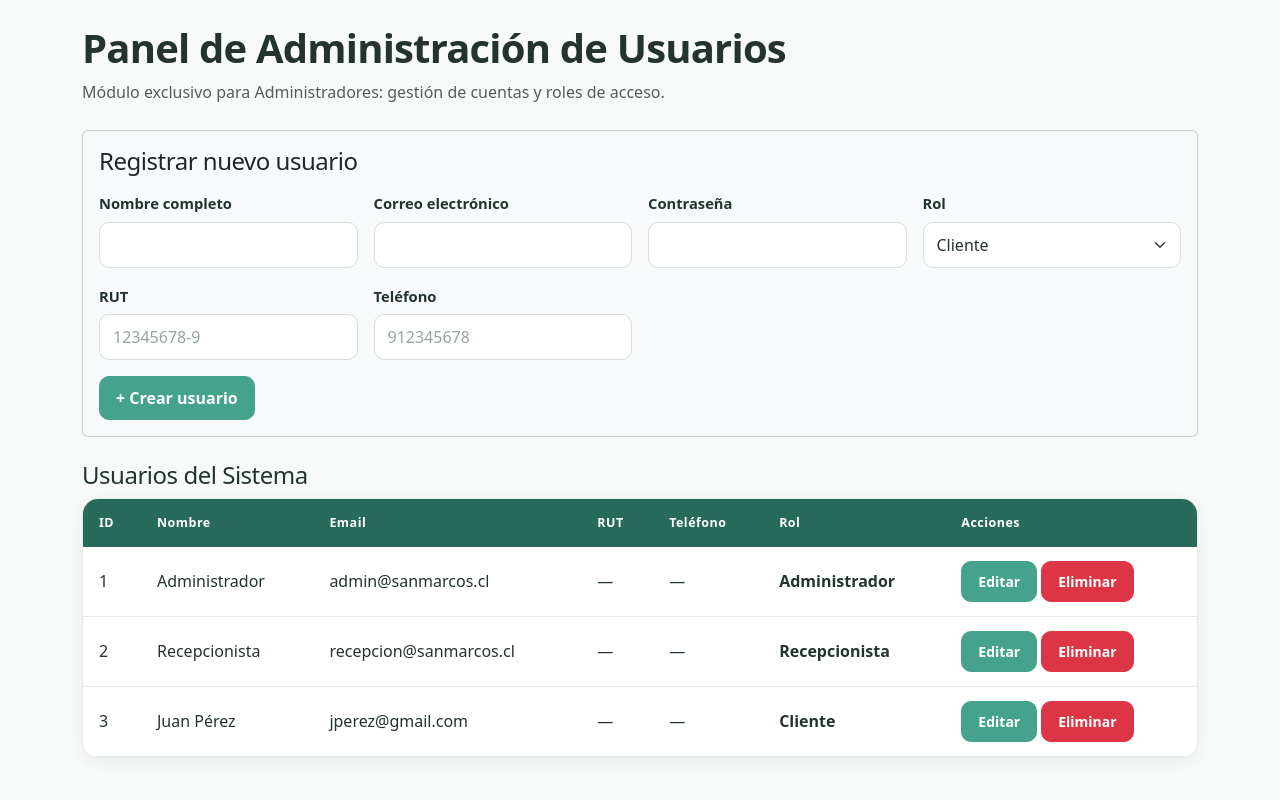
Test: UsuariosPage › rechaza un correo con formato inválido
Expected: the text "Juan Pérez" is shown, 141,687 -> 313,757
Type "Laura Soto" into the field labelled "Nombre completo" at (228, 245), box 99,222 -> 358,268
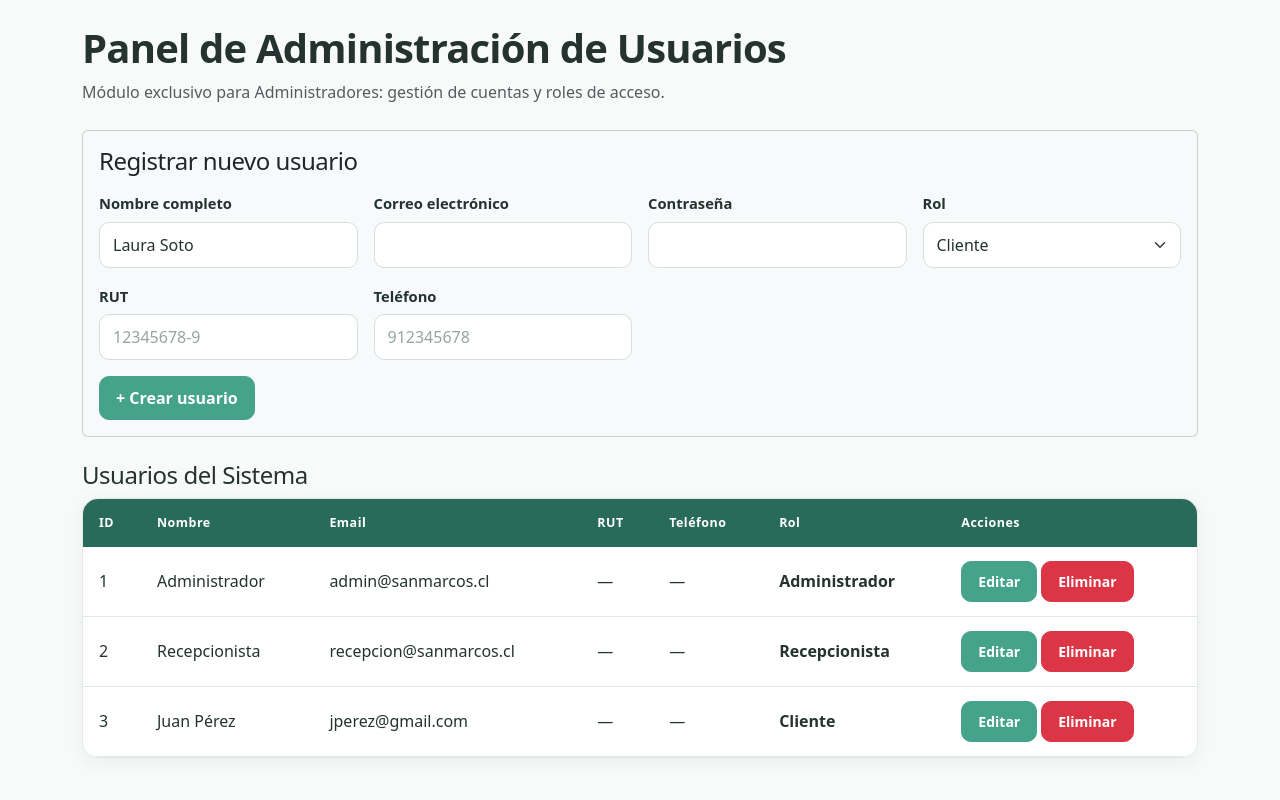
Type "laura-sin-arroba" into the field labelled "Correo electrónico" at (503, 245), box 374,222 -> 632,268
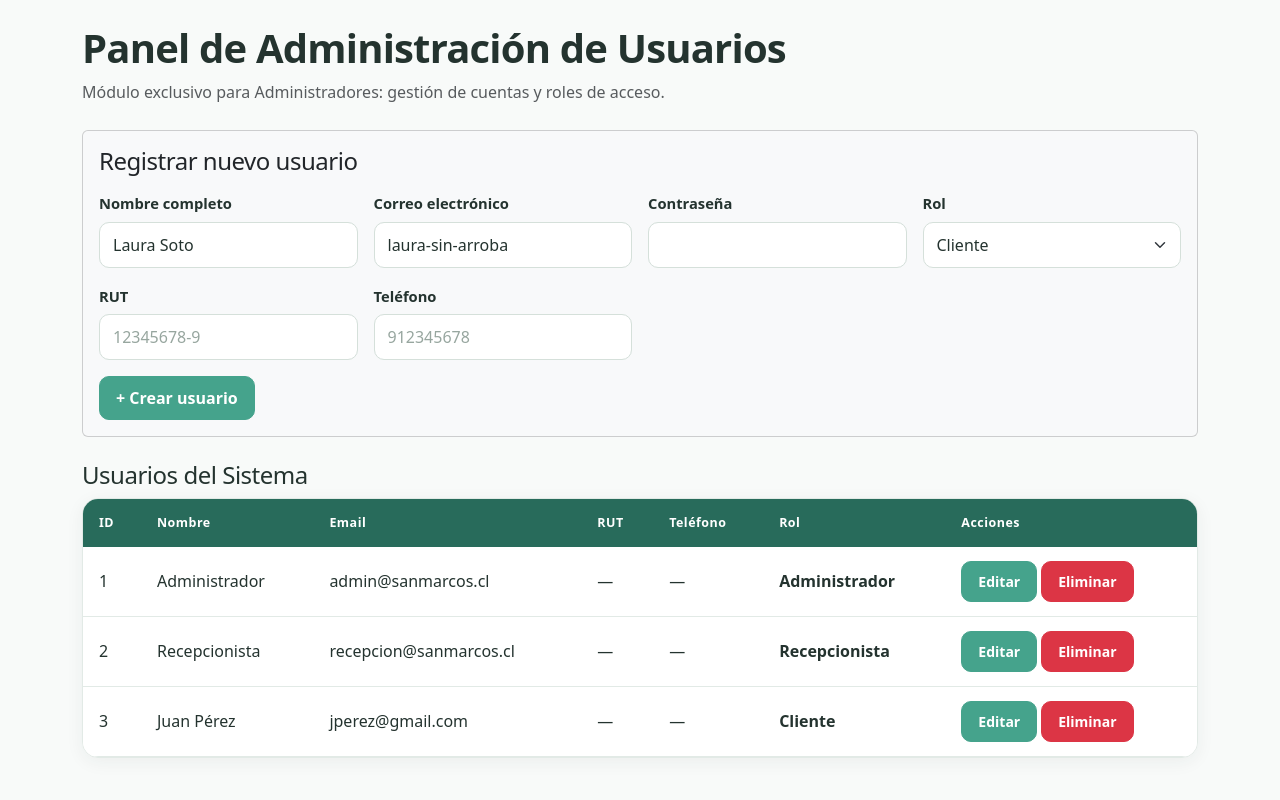
Type "1234" into the password field labelled "Contraseña" at (777, 245), box 648,222 -> 906,268
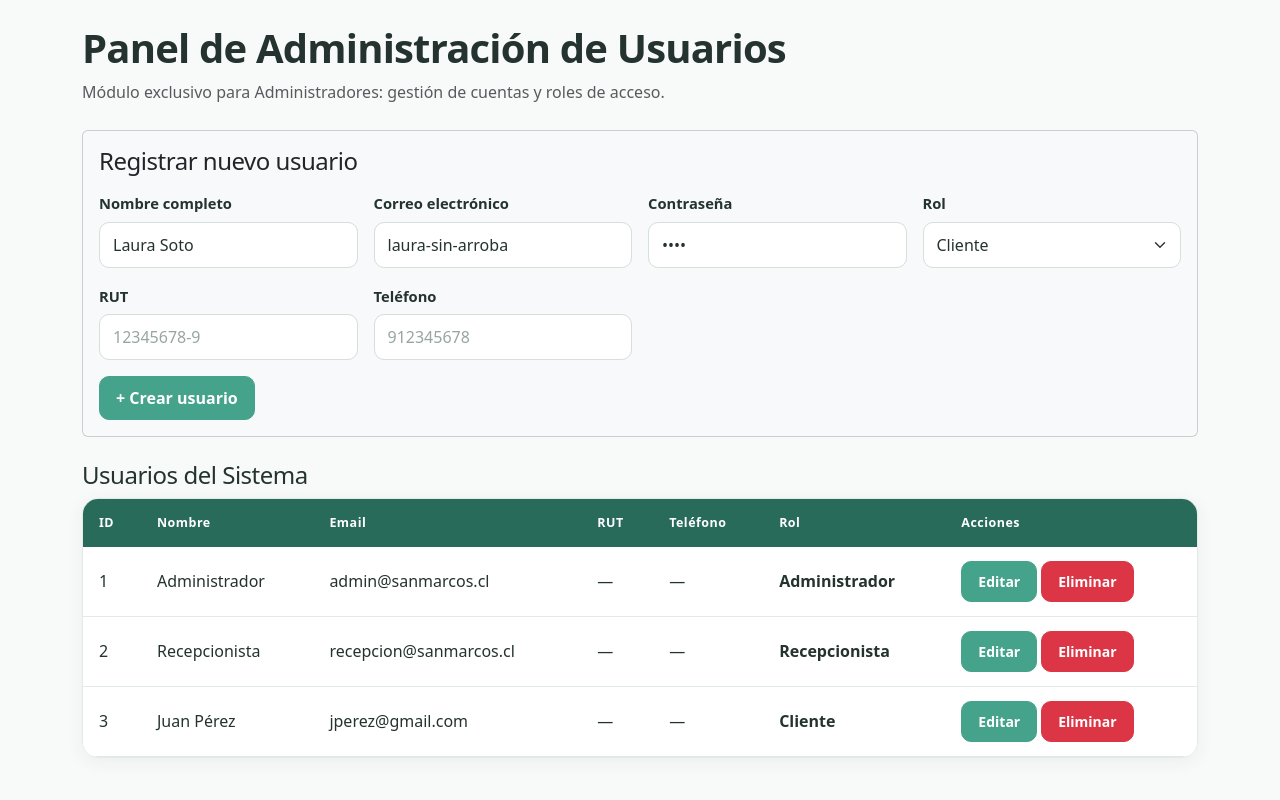
Click the button "+ Crear usuario" at (177, 398), box 99,376 -> 255,420
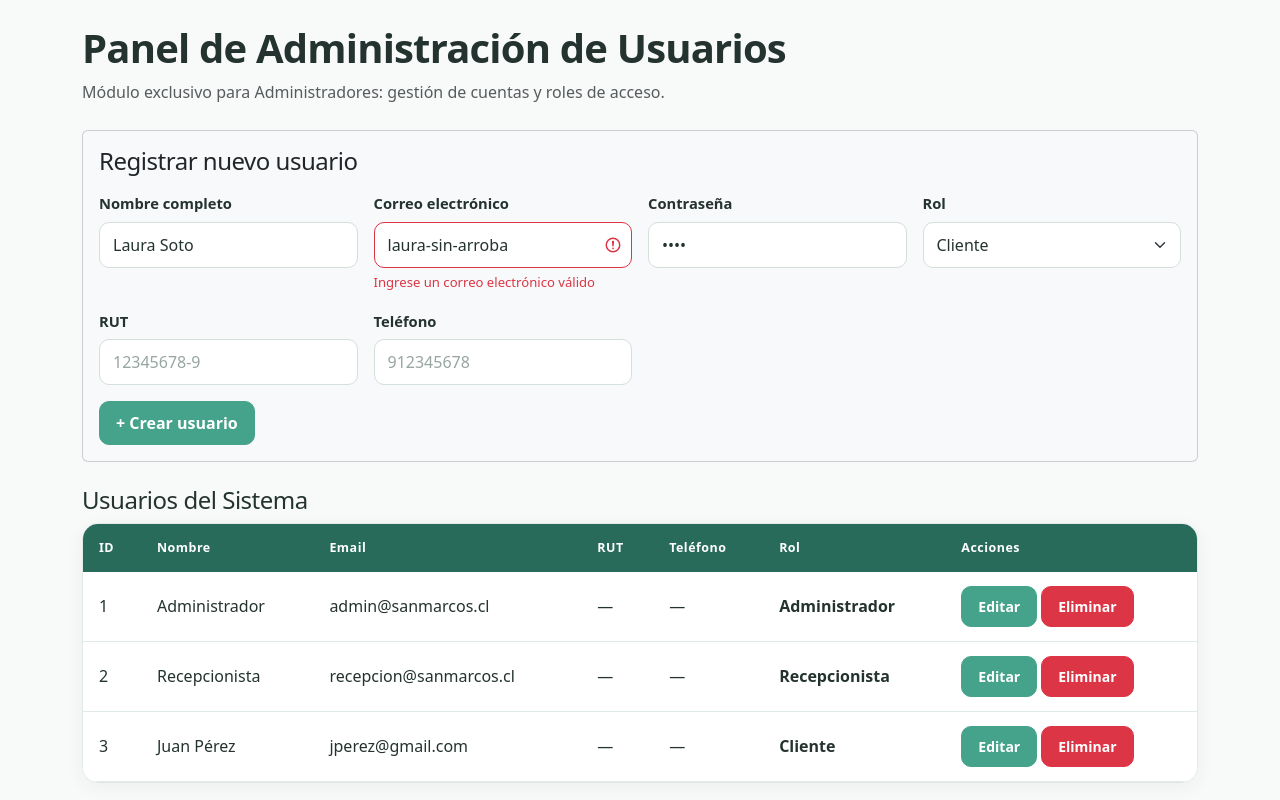
Expected: the text "Ingrese un correo electrónico válido" is shown, 374,272 -> 632,293
